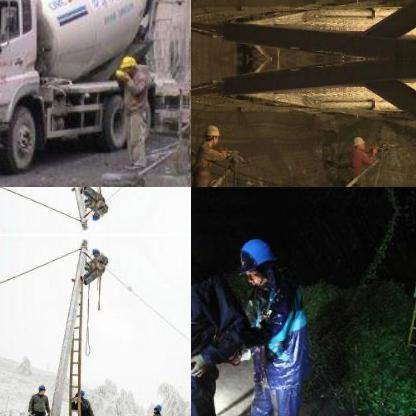Helmet: (238, 234, 278, 288), (118, 54, 138, 74), (202, 121, 220, 142), (350, 133, 366, 147), (74, 387, 84, 401), (90, 245, 98, 259), (90, 207, 98, 221), (151, 402, 161, 412), (36, 381, 44, 393)
